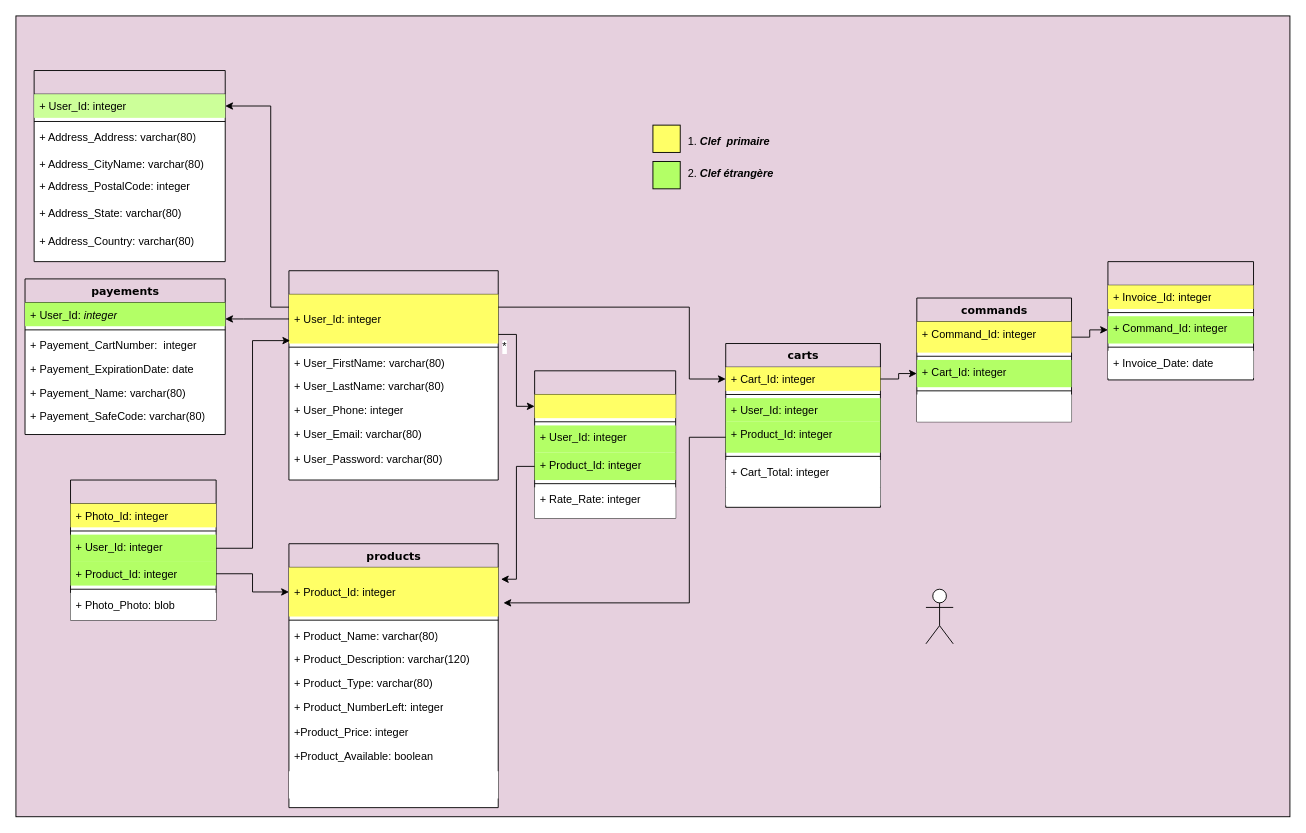
The diagram is 1306 pixels wide and 833 high, and some of its shapes have lost their labels. Here are the shapes that lost their labels. From the top down, the box of each, then its label:
(33, 70, 225, 262): addresses
(1107, 261, 1254, 380): invoices
(288, 270, 498, 480): users
(534, 394, 675, 418): + Rate_Id: integer
(916, 394, 1071, 421): + Command_OrderDate: date
(534, 370, 676, 518): rates
(725, 487, 880, 505): + Cart_ProductCount: integer
(70, 479, 216, 620): photos
(925, 588, 953, 644): Thibaut Figueira
(288, 771, 498, 798): +Product_TotalRate: integer
